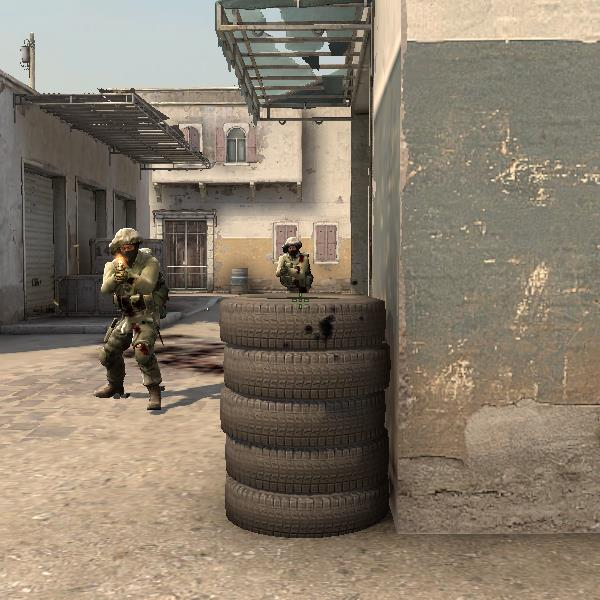ct_body: (257, 237, 320, 291)
ct_head: (281, 237, 303, 259)
